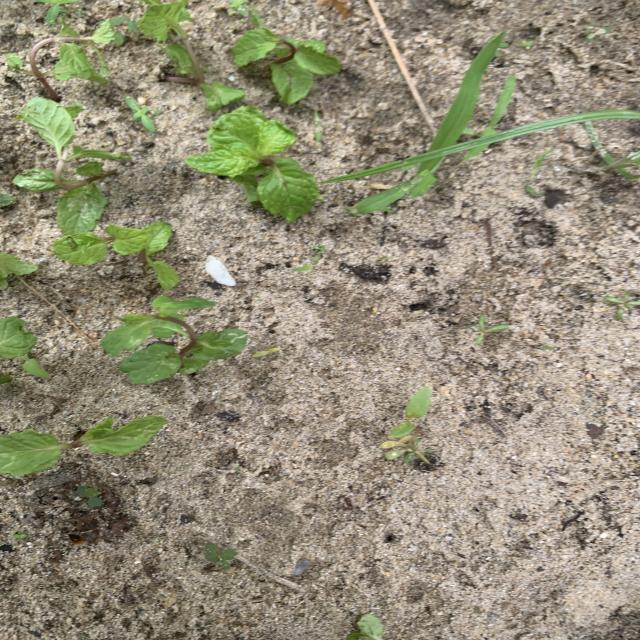crop: (186, 106, 319, 220), (16, 116, 130, 232), (102, 296, 247, 383), (0, 416, 166, 475), (233, 19, 339, 103), (53, 223, 177, 289), (34, 17, 127, 82), (164, 44, 243, 110), (1, 318, 47, 377), (137, 1, 190, 41), (1, 254, 35, 288), (347, 614, 383, 639)
weed: (321, 32, 640, 214), (390, 387, 431, 438), (381, 434, 431, 463), (125, 97, 160, 131), (469, 316, 509, 343), (604, 292, 639, 319), (36, 1, 76, 22), (205, 543, 235, 567), (292, 249, 324, 271), (78, 486, 101, 507), (228, 1, 252, 17), (253, 348, 279, 356), (0, 194, 14, 207), (12, 531, 27, 539)
